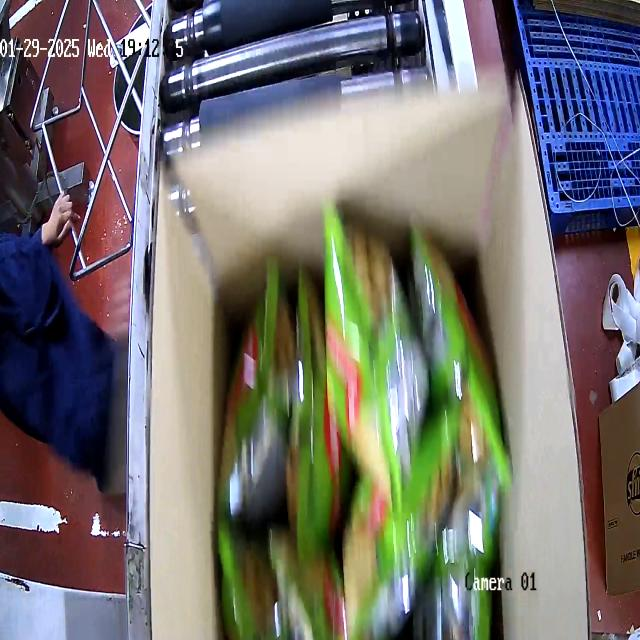YOGURT_HERB: (215, 206, 512, 638)
